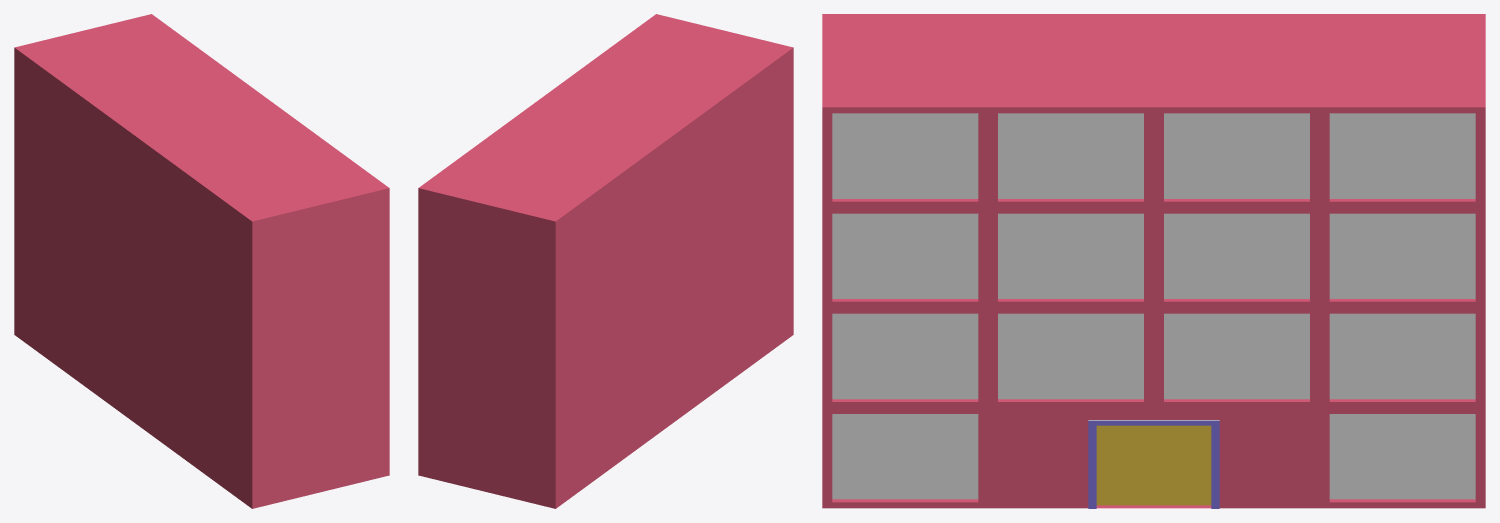
The model's file is Bureau.fbx.
3 renders of one model, left to right at view 1: azimuth 30°, elevation 25°; view 2: azimuth 150°, elevation 25°; view 3: azimuth 270°, elevation 25°, orthographic. The views are drawn at different scales.
Parts seen in each view (by area): view 1: Cube; view 2: Cube; view 3: Cube.
Part boxes in pixels (bbox=[...]): Cube: bbox=[14, 14, 389, 508]; Cube: bbox=[418, 14, 793, 508]; Cube: bbox=[822, 14, 1485, 508].
Bounding box in the file's own units: 758 × 1503 × 2254.
